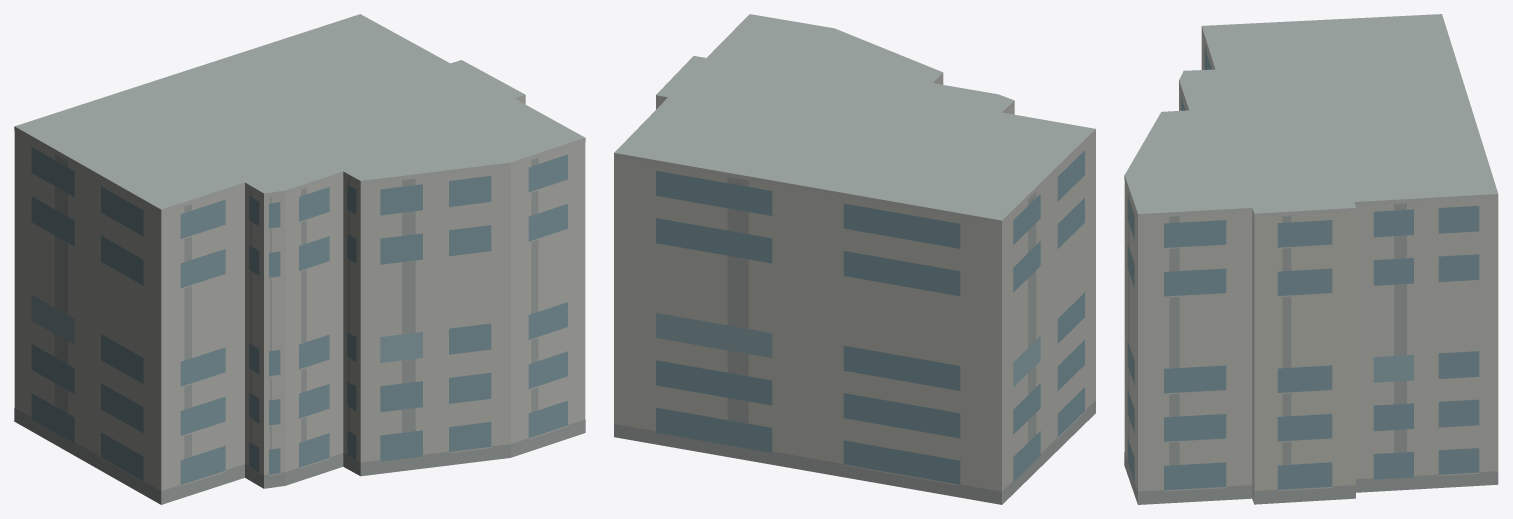
Rendered from survey-upis-32682652.glb.
3 renders of one model, left to right at view 1: azimuth 30°, elevation 25°; view 2: azimuth 150°, elevation 25°; view 3: azimuth 270°, elevation 25°, orthographic. The views are drawn at different scales.
Parts seen in each view (by area): view 1: survey-upis-32682652.tmp; view 2: survey-upis-32682652.tmp; view 3: survey-upis-32682652.tmp.
Boxes of the visible parts, left/top/right/bottom form: survey-upis-32682652.tmp: left=14, top=14, right=585, bottom=504; survey-upis-32682652.tmp: left=614, top=14, right=1095, bottom=504; survey-upis-32682652.tmp: left=1124, top=14, right=1498, bottom=504.
Bounding box in the file's own units: 24.31 × 16.46 × 19.19.
